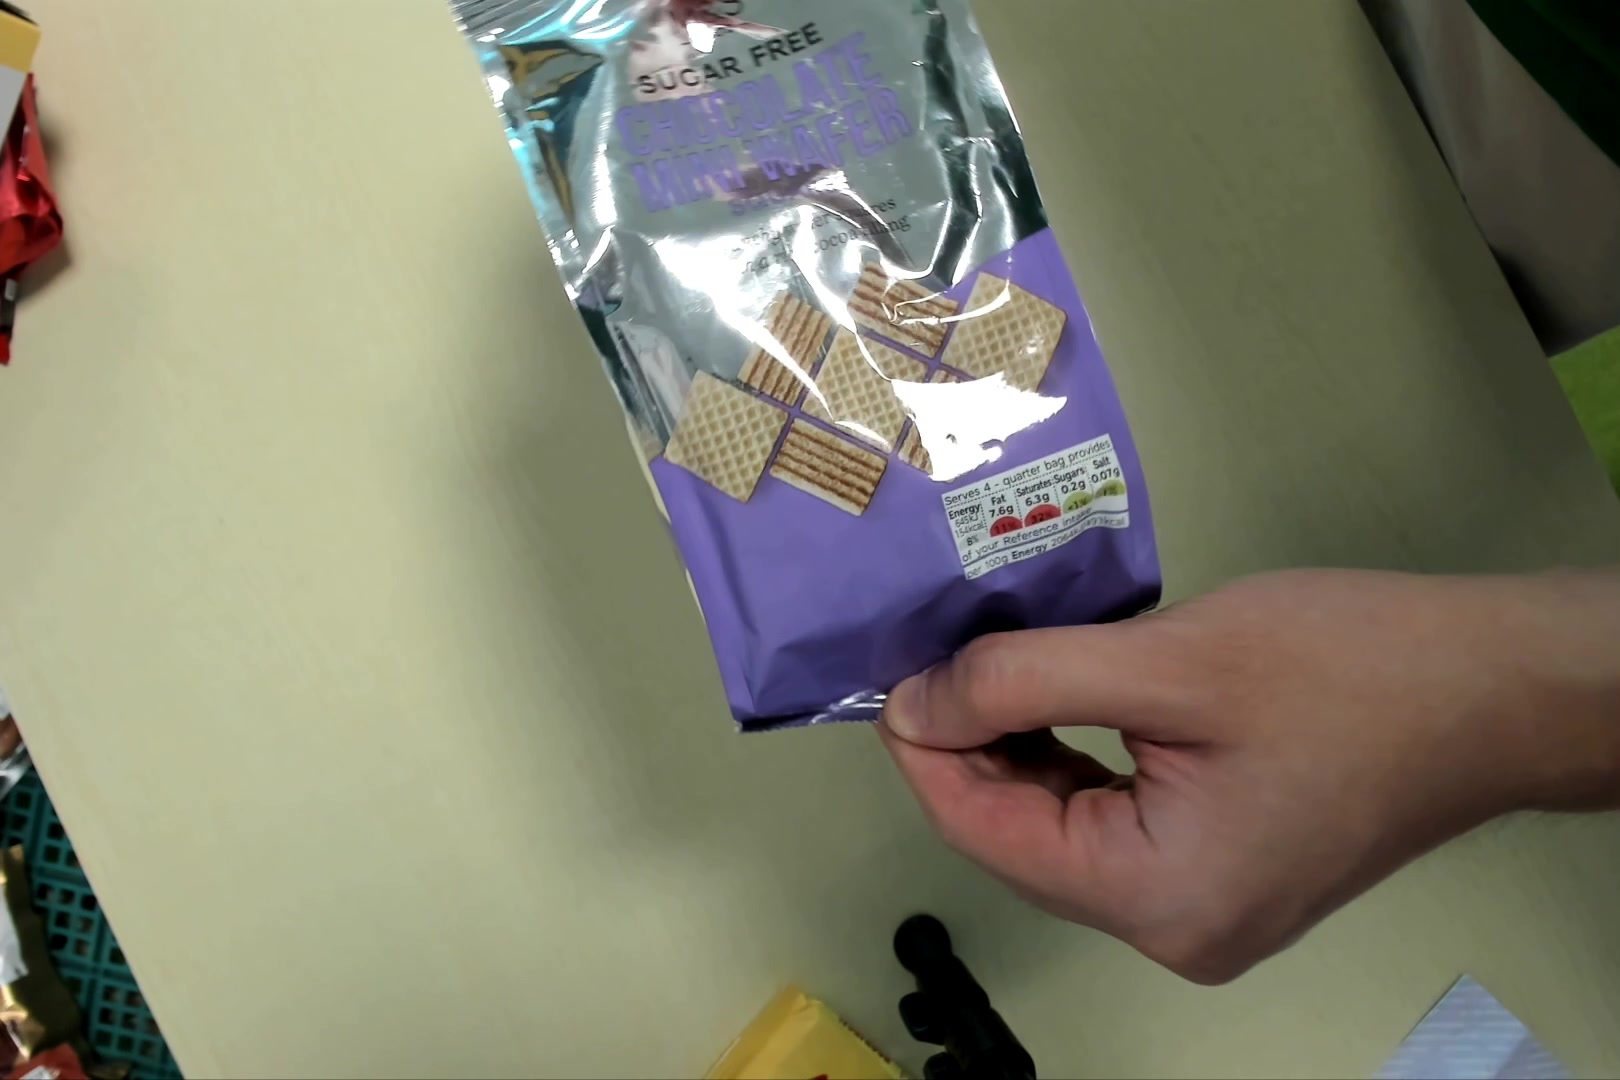SweetsChocolatesOthers_100-199g_NonHalal_NonHealthy: (445, 5, 1164, 749)
